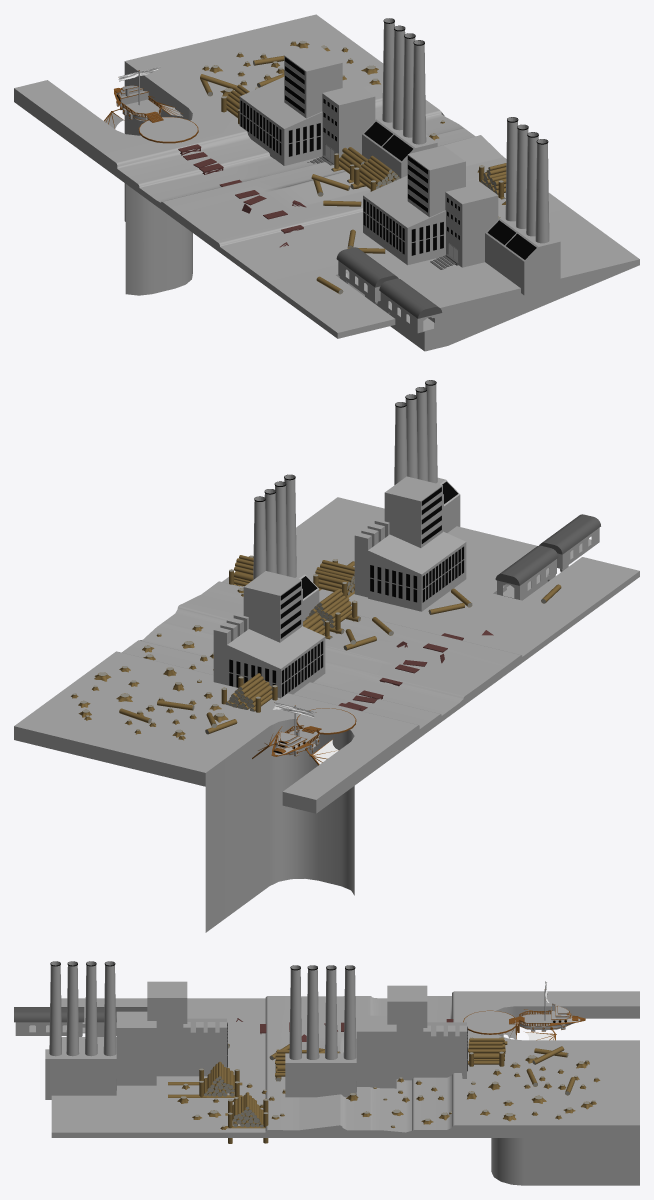
The model's file is Level 2 Room.fbx.
3 renders of one model, top to bottom at view 1: azimuth 30°, elevation 25°; view 2: azimuth 150°, elevation 25°; view 3: azimuth 270°, elevation 25°, orthographic. The views are drawn at different scales.
Visible parts, largest first — view 1: pCube1, pCube113, polySurface21, pCube116, polySurface19, pCube115, pCylinder1, pCylinder125, pCylinder128, pCylinder126, pCylinder127; view 2: pCube1, pCube113, polySurface21, pCube115, polySurface19, pCube116, pCylinder127, pCylinder125, pCylinder135, pCylinder1; view 3: pCube1, pCube113, polySurface21, polySurface19, pCylinder135, pCube116, pCylinder128, pCylinder127, pCylinder1, pCube115, pCylinder125.
Part boxes in pixels (<box>): pCube1: <box>14,14,639,351</box>; pCube113: <box>363,117,560,295</box>; polySurface21: <box>239,18,437,178</box>; pCube116: <box>379,278,442,333</box>; polySurface19: <box>104,66,182,128</box>; pCube115: <box>336,247,398,301</box>; pCylinder1: <box>138,117,198,143</box>; pCylinder125: <box>350,155,400,191</box>; pCylinder128: <box>479,163,506,199</box>; pCylinder126: <box>331,147,368,183</box>; pCylinder127: <box>221,84,259,124</box>; pCube1: <box>14,497,639,932</box>; pCube113: <box>354,380,466,611</box>; polySurface21: <box>213,474,325,698</box>; pCube115: <box>495,545,558,599</box>; polySurface19: <box>252,702,338,765</box>; pCube116: <box>539,514,600,569</box>; pCylinder127: <box>221,673,277,712</box>; pCylinder125: <box>305,589,360,634</box>; pCylinder135: <box>313,559,354,597</box>; pCylinder1: <box>296,708,356,734</box>; pCube1: <box>51,991,639,1185</box>; pCube113: <box>45,961,227,1099</box>; polySurface21: <box>285,965,467,1097</box>; polySurface19: <box>504,981,585,1040</box>; pCylinder135: <box>168,1061,242,1097</box>; pCube116: <box>14,1007,85,1035</box>; pCylinder128: <box>225,1092,268,1143</box>; pCylinder127: <box>468,1037,507,1066</box>; pCylinder1: <box>463,1010,517,1034</box>; pCube115: <box>97,1007,147,1035</box>; pCylinder125: <box>275,1049,306,1081</box>.
Size of the model in its own units: 10601 by 9774 by 20923.
